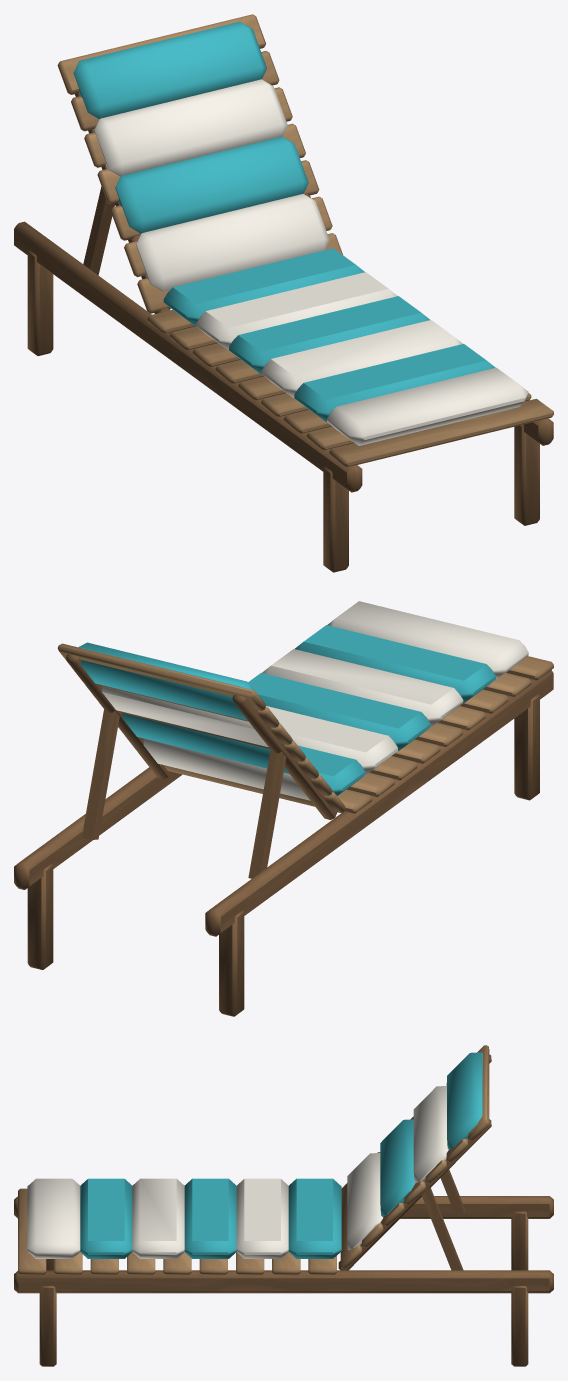
The model's file is beach-lounger.glb.
3 renders of one model, top to bottom at view 1: azimuth 30°, elevation 25°; view 2: azimuth 150°, elevation 25°; view 3: azimuth 270°, elevation 25°, orthographic. The views are drawn at different scales.
Parts seen in each view (by area): view 1: beach-lounger; view 2: beach-lounger; view 3: beach-lounger.
Part boxes in pixels (x1,y1,x2,y2): beach-lounger: (14, 14, 553, 572); beach-lounger: (14, 601, 553, 1016); beach-lounger: (14, 1045, 553, 1366).
Size of the model in its own units: 0.68 by 0.9484 by 1.9.
Materials: 2 (1 with a texture image).
